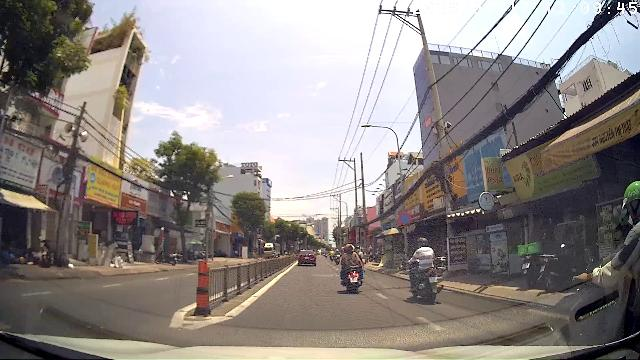131a-cam-do-xe: (398, 212, 412, 225)
